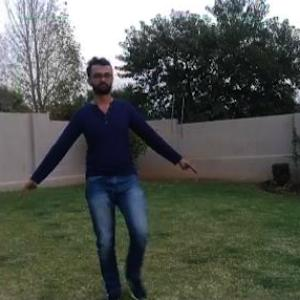land: (22, 56, 214, 288)
